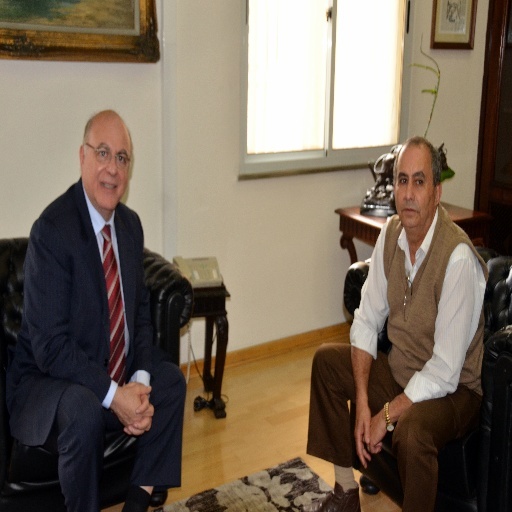hand: (114, 382, 153, 431), (123, 381, 154, 438), (361, 413, 388, 457)
